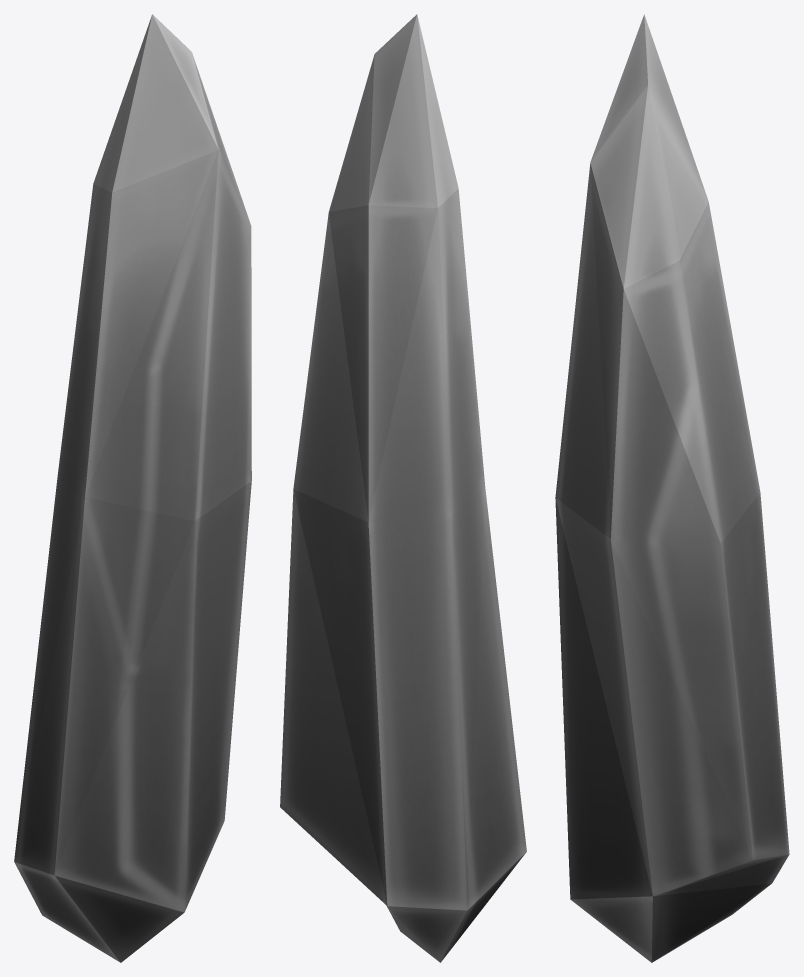
Rendered from cave crystal B.FBX.
3 renders of one model, left to right at view 1: azimuth 30°, elevation 25°; view 2: azimuth 150°, elevation 25°; view 3: azimuth 270°, elevation 25°, orthographic. The views are drawn at different scales.
Visible parts, largest first — view 1: crystal B; view 2: crystal B; view 3: crystal B.
Boxes of the visible parts, x1,y1,x2,y2 form: crystal B: (14, 14, 251, 962); crystal B: (280, 14, 526, 962); crystal B: (555, 14, 789, 962).
Size of the model in its own units: 0.8889 by 4.14 by 0.9133.
